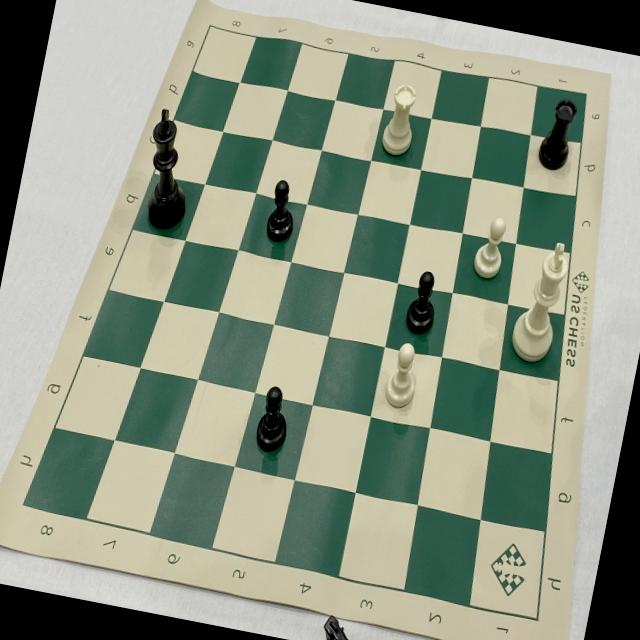black-king: (128, 99, 210, 242)
black-pawn: (243, 376, 306, 466), (254, 166, 312, 254), (398, 258, 452, 344)
black-rook: (528, 88, 588, 183)
white-king: (497, 227, 581, 376)
white-pawn: (374, 334, 432, 420), (466, 208, 518, 286)
white-rook: (370, 75, 430, 172)
